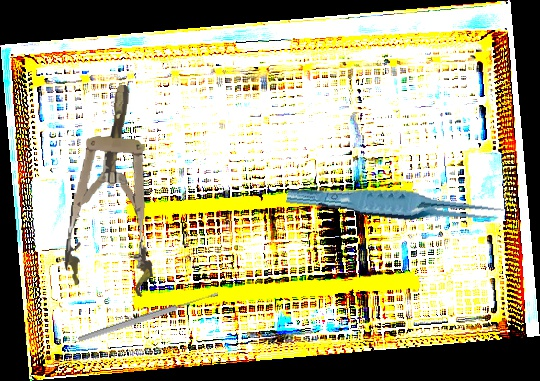Speculum: (62, 81, 169, 298)
Surgical Spoon: (77, 290, 220, 344)
Tissue Forceps: (285, 172, 506, 239)
